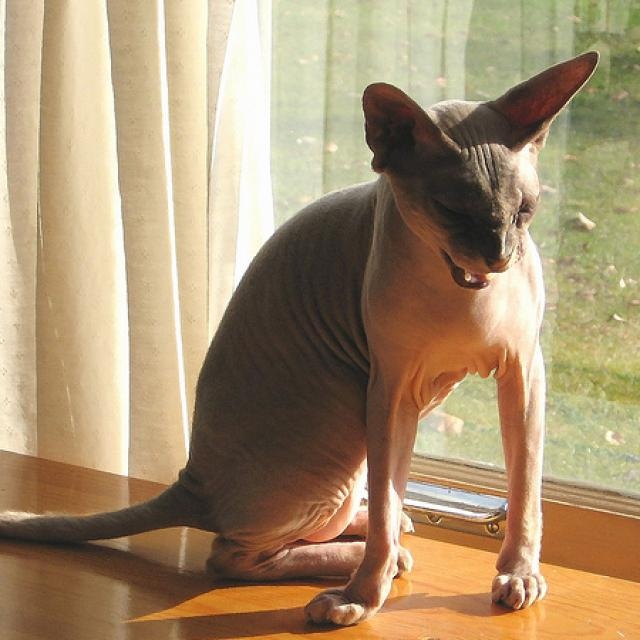Sphynx: (0, 45, 604, 628)
